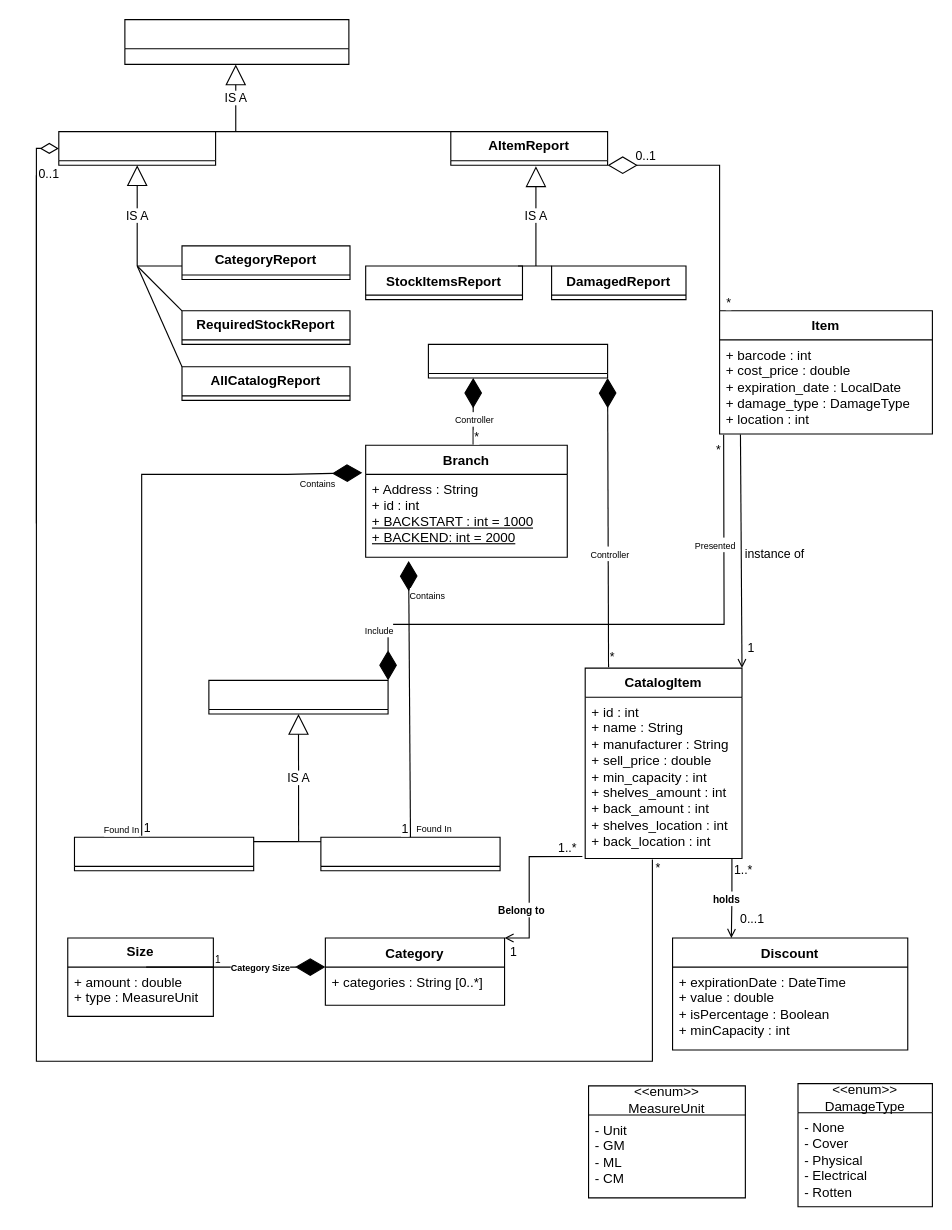
Some shapes in this 952 by 1230 pixel diagram are drawn without their labels. Each missing label, with the centre of its shape:
"ACatalogReport" belongs at point (137, 147).
"AReport" belongs at point (236, 41).
"BackStorage" belongs at point (410, 853).
"StockManagmentFacade" belongs at point (517, 360).
"StorageUnit" belongs at point (298, 696).
"StoreShelves" belongs at point (163, 853).
